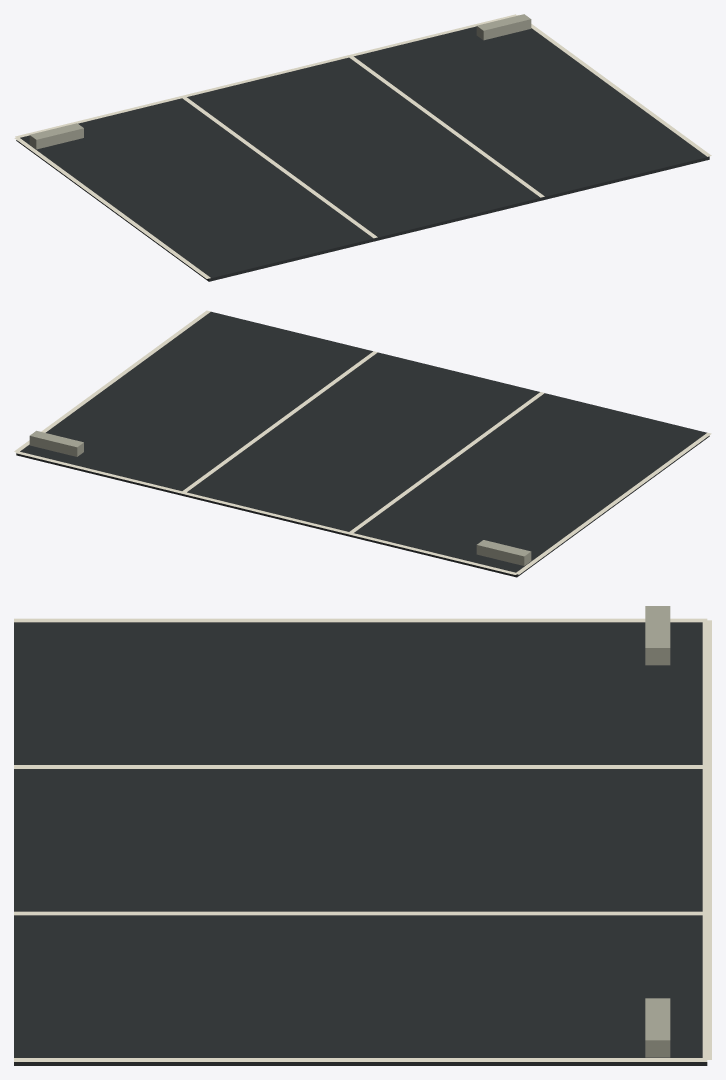
The model's file is CustomerParking.obj.
3 renders of one model, top to bottom at view 1: azimuth 30°, elevation 25°; view 2: azimuth 150°, elevation 25°; view 3: azimuth 270°, elevation 25°, orthographic. The views are drawn at different scales.
Visible parts, largest first — view 1: CustomerParking; view 2: CustomerParking; view 3: CustomerParking.
Part boxes in pixels (x1,y1,x2,y2): CustomerParking: (14,14,711,281); CustomerParking: (14,310,711,577); CustomerParking: (14,606,711,1065).
Bounding box in the file's own units: 8.48 × 0.205 × 5.64.
